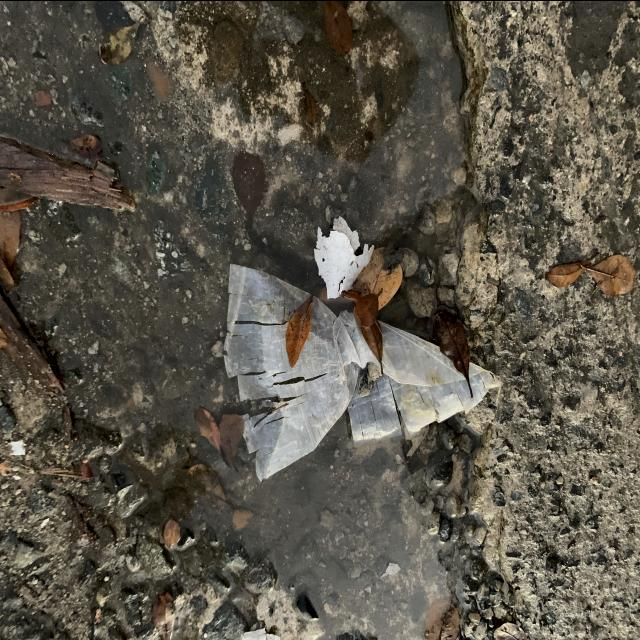Disposable plastic cup: (224, 263, 501, 481)
Unlabeled litter: (314, 215, 374, 298)
